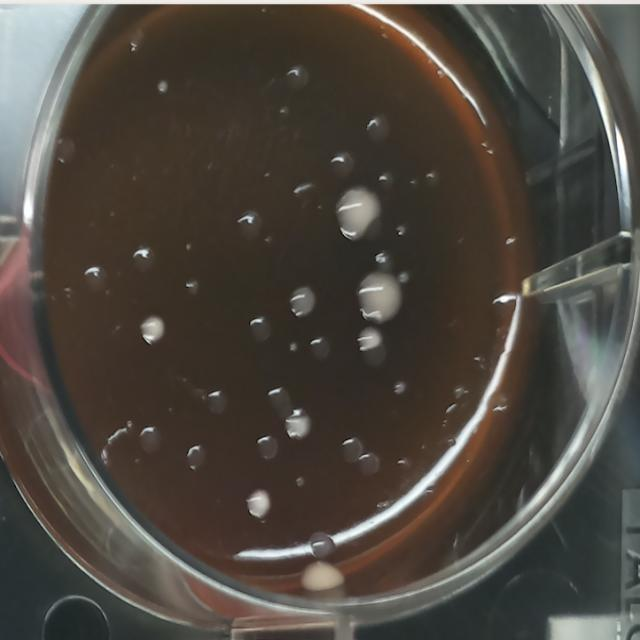Bacillus: (354, 267, 405, 329), (333, 182, 382, 246)
Staphylococcus: (244, 487, 274, 522), (139, 313, 167, 348)
